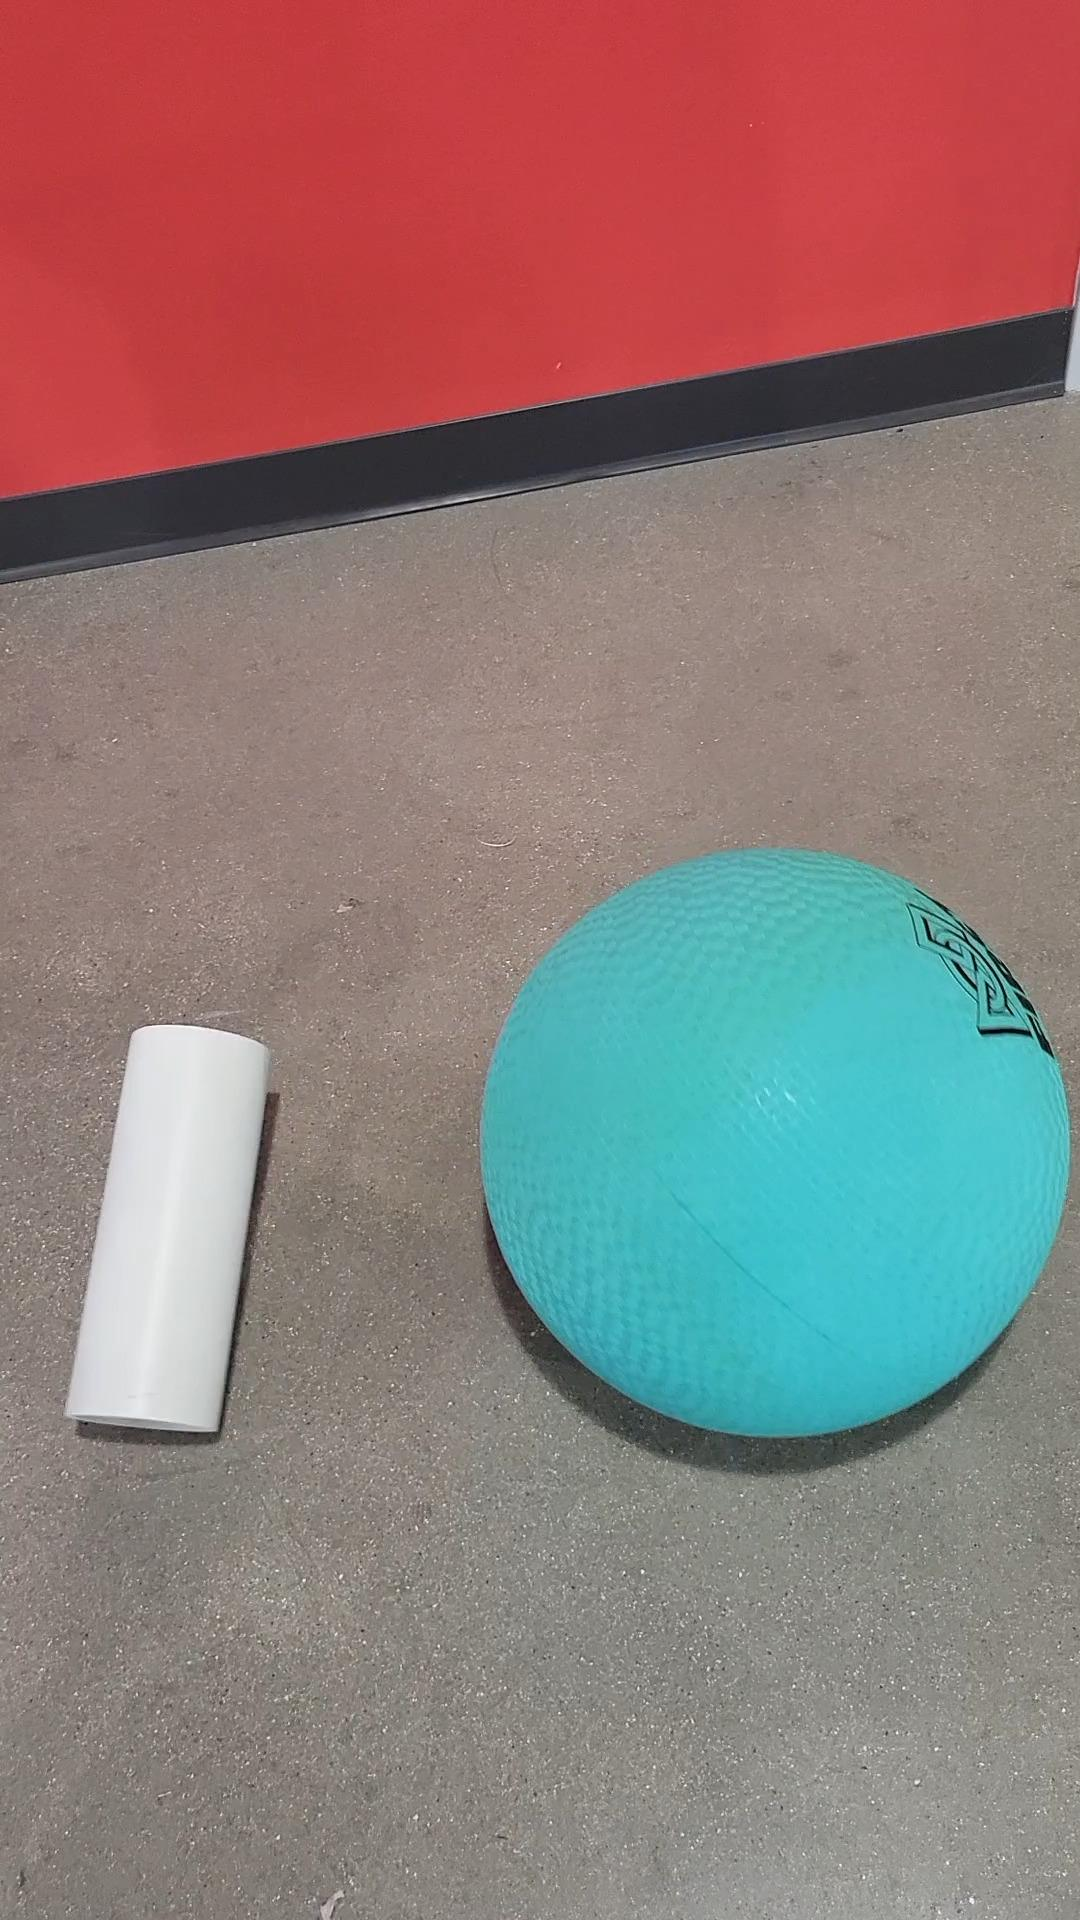coral: (472, 841, 1080, 1448), (63, 1015, 274, 1441)
